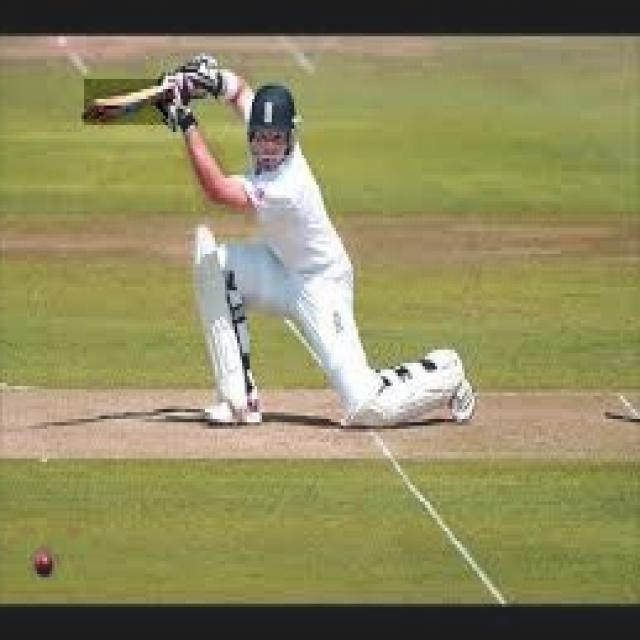bat: (87, 76, 180, 130)
toe: (87, 104, 111, 118)
